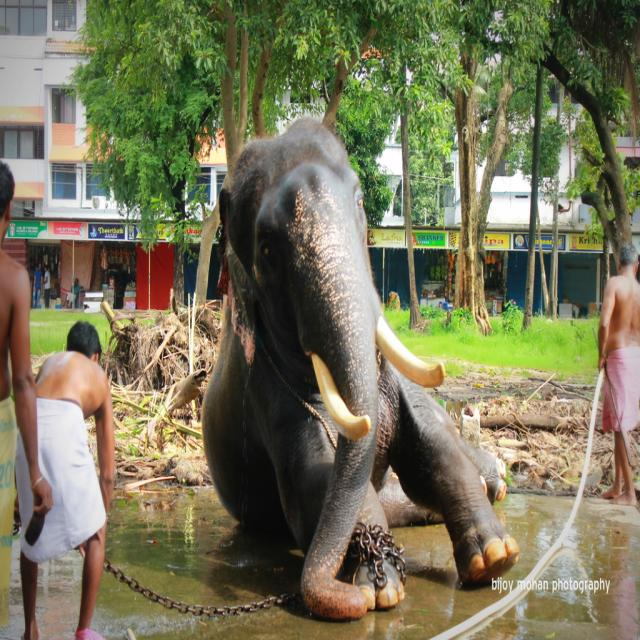Elephant: (199, 114, 519, 620)
person: (13, 320, 115, 639), (0, 158, 53, 638), (597, 242, 639, 507), (32, 262, 42, 308), (42, 264, 51, 308)
